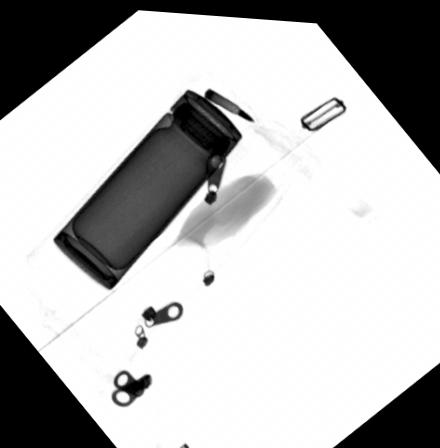Bullet: (202, 84, 256, 120)
